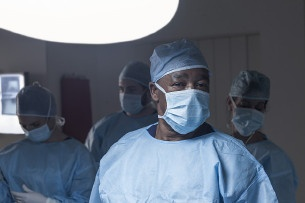Mask: (158, 74, 216, 132)
